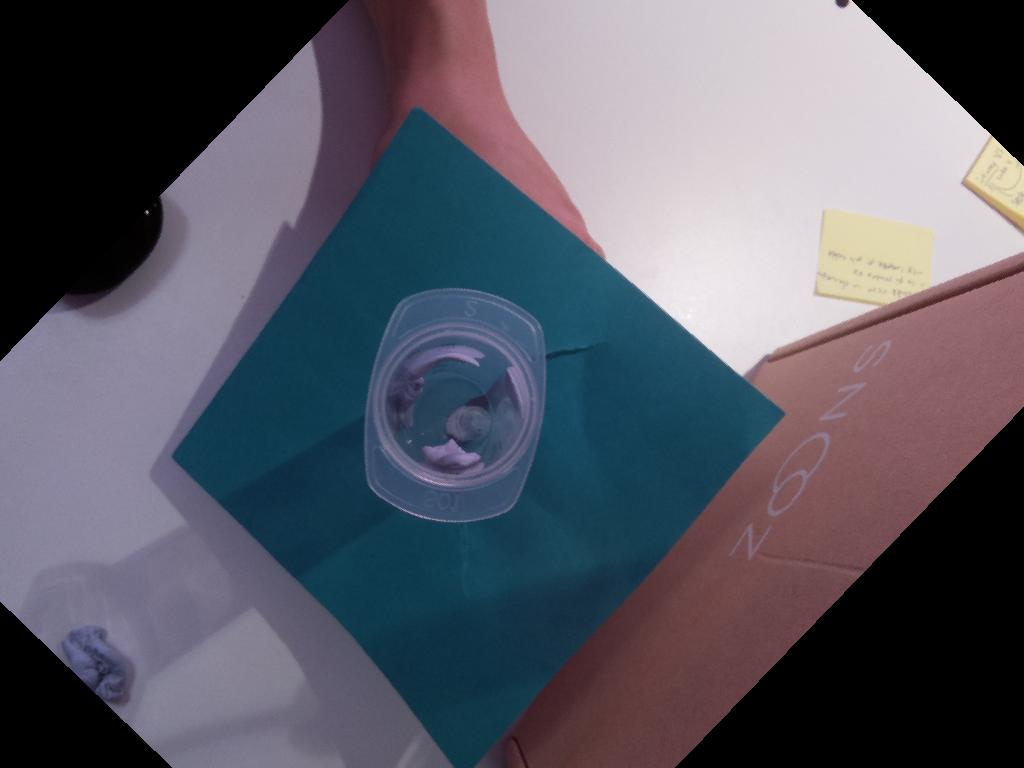dirty: (360, 286, 548, 525)
